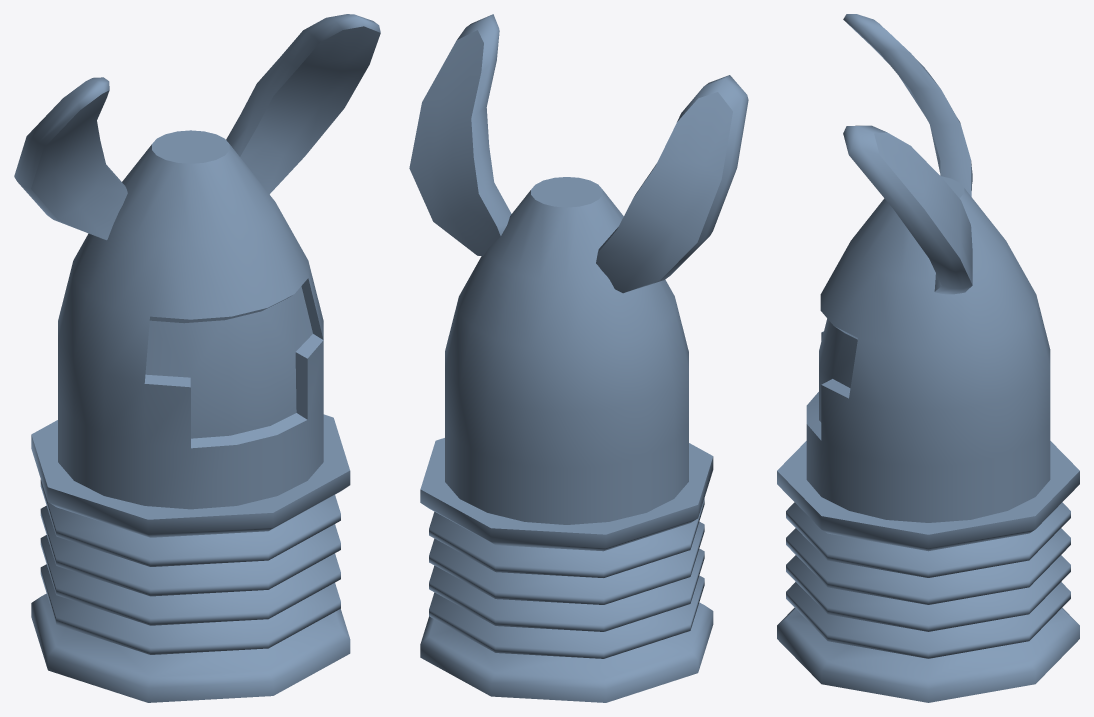
Rendered from rcBotHoppyAssy.FBX.
3 views of the same model, side by side, from view 1: azimuth 30°, elevation 25°; view 2: azimuth 150°, elevation 25°; view 3: azimuth 270°, elevation 25° (orthographic). The views are drawn at different scales.
Parts seen in each view (by area): view 1: botHoppyBody, roboHoppyLeg, botHoppyface, botHoppyEarOpp, botHoppyEar; view 2: botHoppyBody, roboHoppyLeg, botHoppyEar, botHoppyEarOpp; view 3: botHoppyBody, roboHoppyLeg, botHoppyEarOpp, botHoppyEar, botHoppyface.
Boxes of the visible parts, box(x1,y1,x2,y2) form: botHoppyBody: box(58, 130, 323, 509); roboHoppyLeg: box(31, 414, 350, 702); botHoppyface: box(145, 286, 312, 438); botHoppyEarOpp: box(226, 14, 380, 194); botHoppyEar: box(14, 77, 127, 240); botHoppyBody: box(445, 177, 688, 524); roboHoppyLeg: box(420, 438, 713, 702); botHoppyEar: box(596, 75, 748, 293); botHoppyEarOpp: box(409, 14, 511, 255); botHoppyBody: box(806, 176, 1050, 522); roboHoppyLeg: box(777, 441, 1079, 702); botHoppyEarOpp: box(843, 125, 972, 294); botHoppyEar: box(843, 14, 972, 196); botHoppyface: box(819, 318, 857, 422).
Size of the model in its own units: 0.5662 by 1.01 by 0.4898.
